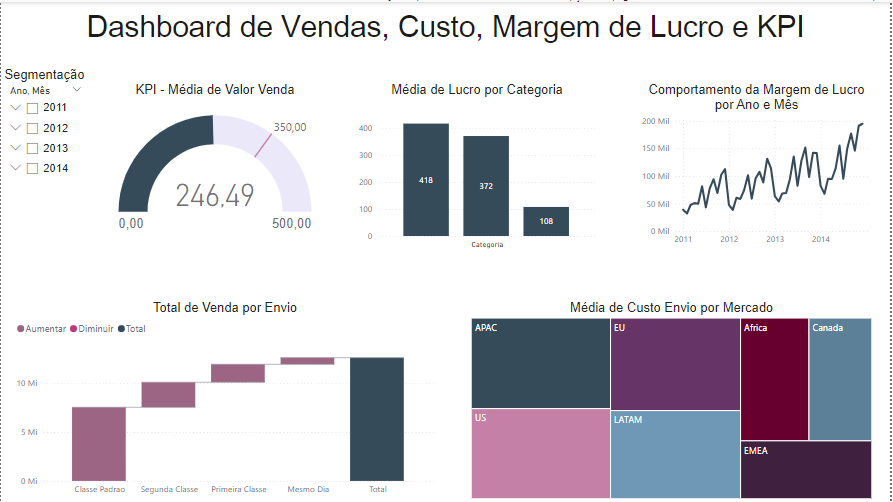

What the dashboard file says about the page in this screenshot:
{"tool":"powerbi","page":{"name":"Página 1","canvas":[1280,720],"ordinal":0},"visuals":[{"type":"waterfallChart","fields":{"Category":["Pedidos.Modo Envio"],"Y":["Sum(Vendas.Valor Venda)"]},"box":[17.3,429.1,610.6,290.9],"z":0},{"type":"treemap","fields":{"Group":["Clientes.Mercado"],"Values":["Avg(Vendas.Custo Envio)"]},"box":[672.5,429.1,586.1,290.9],"z":1000},{"type":"gauge","fields":{"Y":["Avg(Vendas.Valor Venda)"]},"box":[164.2,115.2,288,244.8],"z":2000},{"type":"slicer","title":"Segmentação","fields":{"Values":["Pedidos.Data Pedido.Variation.Hierarquia de datas.Ano","Pedidos.Data Pedido.Variation.Hierarquia de datas.Mês"]},"box":[0,93.6,128.2,266.4],"z":3000},{"type":"columnChart","fields":{"Category":["Produtos.Categoria"],"Y":["Avg(Vendas.Lucro)"]},"box":[509.8,115.2,351.4,244.8],"z":4000},{"type":"lineChart","fields":{"Category":["Pedidos.Data Pedido.Variation.Hierarquia de datas.Ano","Pedidos.Data Pedido.Variation.Hierarquia de datas.Mês"],"Y":["Sum(Vendas.Margem de Lucro)"]},"box":[917.3,115.2,341.3,244.8],"z":4001},{"type":"textbox","box":[0,0,1280.2,93.6],"z":4003}]}

Visuals, with their boxes in screenshot pixels (x1, y1, x2, y2), scaled from the page's 1280x720 canvas onto the 893x502 screenshot:
waterfallChart - Pedidos.Modo Envio x Sum(Vendas.Valor Venda): (12, 299, 438, 501)
treemap - Clientes.Mercado x Avg(Vendas.Custo Envio): (469, 299, 878, 501)
gauge - Avg(Vendas.Valor Venda): (115, 80, 315, 251)
"Segmentação" slicer: (0, 65, 89, 251)
columnChart - Produtos.Categoria x Avg(Vendas.Lucro): (356, 80, 601, 251)
lineChart - Pedidos.Data Pedido.Variation.Hierarquia de datas.Ano x Pedidos.Data Pedido.Variation.Hierarquia de datas.Mês: (640, 80, 878, 251)
textbox: (0, 0, 892, 65)
